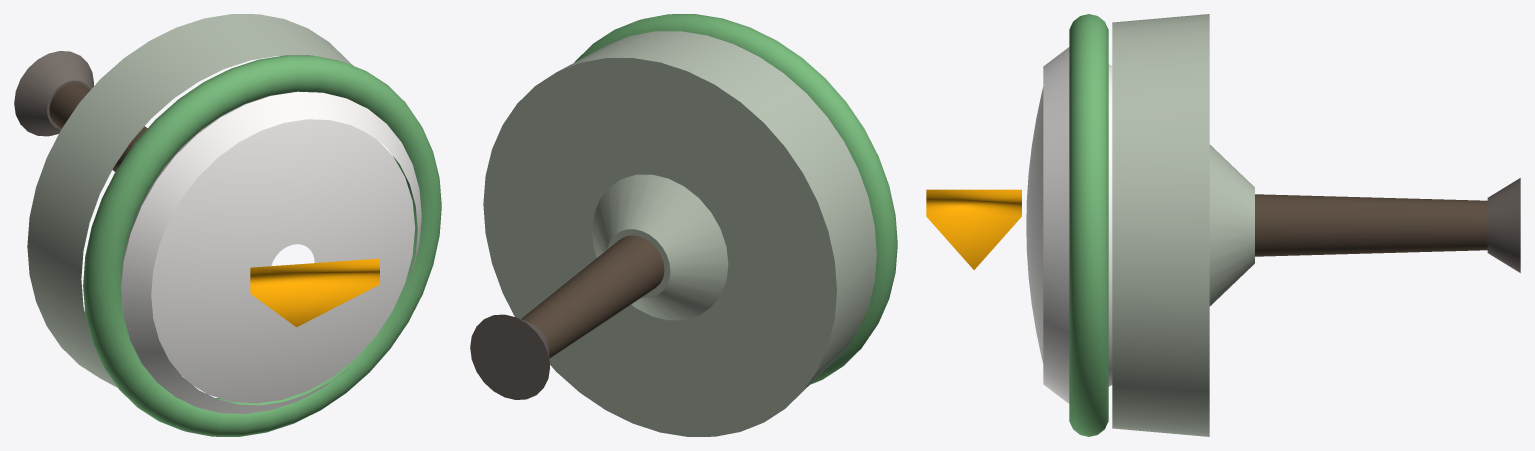
The model's file is pin-start.glb.
3 renders of one model, left to right at view 1: azimuth 30°, elevation 25°; view 2: azimuth 150°, elevation 25°; view 3: azimuth 270°, elevation 25°, orthographic. The views are drawn at different scales.
Parts seen in each view (by area): view 1: plate_dome, ring, head, plate_bevel, play, foot, stem, plate_wall; view 2: head, collar, ring, stem, foot; view 3: head, ring, stem, plate_bevel, collar, play, plate_dome, foot, plate_wall.
Boxes of the visible parts, x1,y1,x2,y2 form: plate_dome: [151, 119, 415, 403]; ring: [83, 55, 441, 436]; head: [27, 14, 353, 387]; plate_bevel: [121, 91, 421, 413]; play: [250, 258, 379, 327]; foot: [14, 51, 93, 136]; stem: [49, 83, 147, 171]; plate_wall: [121, 92, 294, 314]; head: [483, 31, 876, 436]; collar: [592, 174, 728, 320]; ring: [574, 14, 897, 384]; stem: [521, 235, 664, 358]; foot: [470, 314, 549, 399]; head: [1112, 14, 1209, 436]; ring: [1069, 14, 1108, 436]; stem: [1255, 194, 1487, 256]; plate_bevel: [1043, 47, 1069, 403]; collar: [1209, 144, 1254, 306]; play: [926, 189, 1021, 269]; plate_dome: [1026, 87, 1043, 363]; foot: [1487, 178, 1520, 272]; plate_wall: [1108, 64, 1112, 386].
Bounding box in the file's own units: 0.796 × 0.796 × 1.12.
